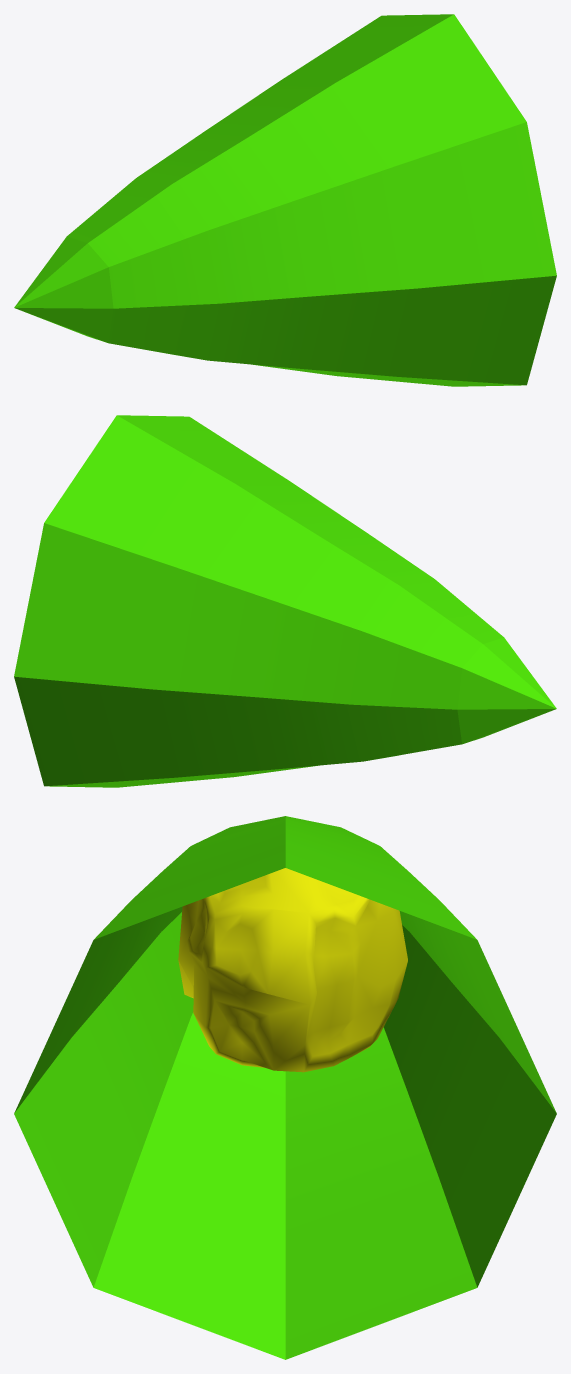
The model's file is Cometa.fbx.
3 views of the same model, one above another, from view 1: azimuth 30°, elevation 25°; view 2: azimuth 150°, elevation 25°; view 3: azimuth 270°, elevation 25° (orthographic). The views are drawn at different scales.
Visible parts, largest first — view 1: Estela; view 2: Estela; view 3: Estela, pPlatonic1.
Part boxes in pixels (x1=…): Estela: x1=14, y1=14, x2=556, y2=386; Estela: x1=14, y1=415, x2=556, y2=787; Estela: x1=14, y1=816, x2=556, y2=1359; pPlatonic1: x1=178, y1=868, x2=407, y2=1072.
Size of the model in its own units: 3195 by 2583 by 2583.
